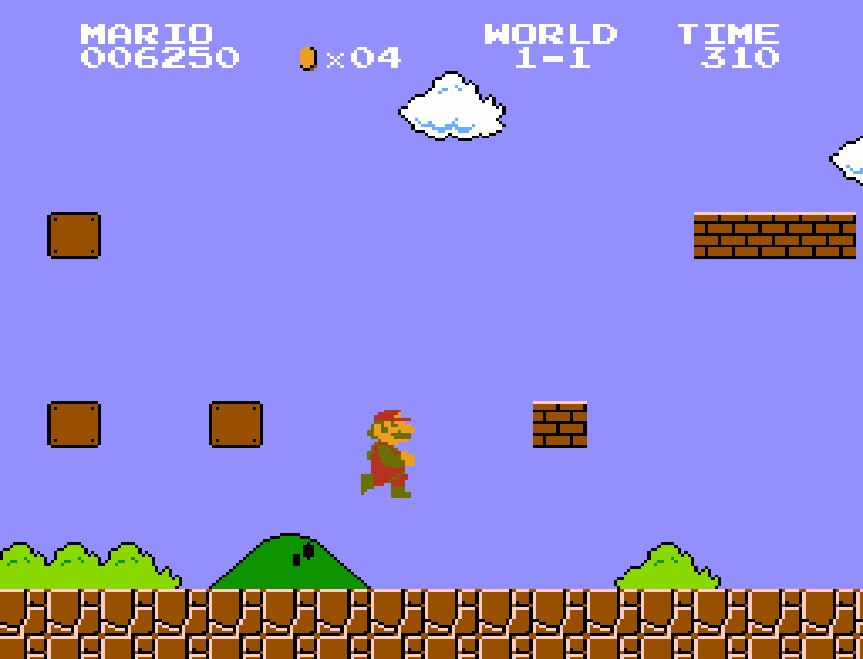big_mario: (358, 402, 416, 500)
